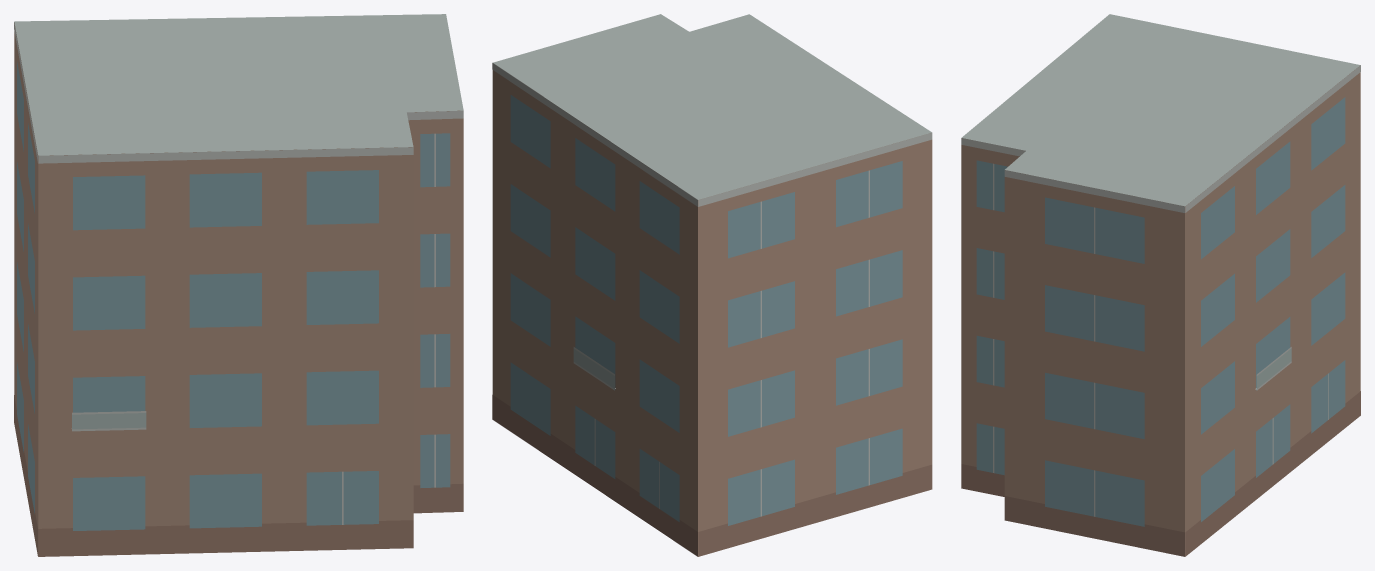
The model's file is survey-upis-33005855.glb.
3 renders of one model, left to right at view 1: azimuth 30°, elevation 25°; view 2: azimuth 150°, elevation 25°; view 3: azimuth 270°, elevation 25°, orthographic. The views are drawn at different scales.
Parts seen in each view (by area): view 1: survey-upis-33005855.tmp; view 2: survey-upis-33005855.tmp; view 3: survey-upis-33005855.tmp.
Part boxes in pixels (x1,y1,x2,y2): survey-upis-33005855.tmp: (14, 14, 463, 556); survey-upis-33005855.tmp: (492, 14, 932, 556); survey-upis-33005855.tmp: (961, 14, 1360, 556).
Size of the model in its own units: 14.6 by 12.4 by 12.81.
